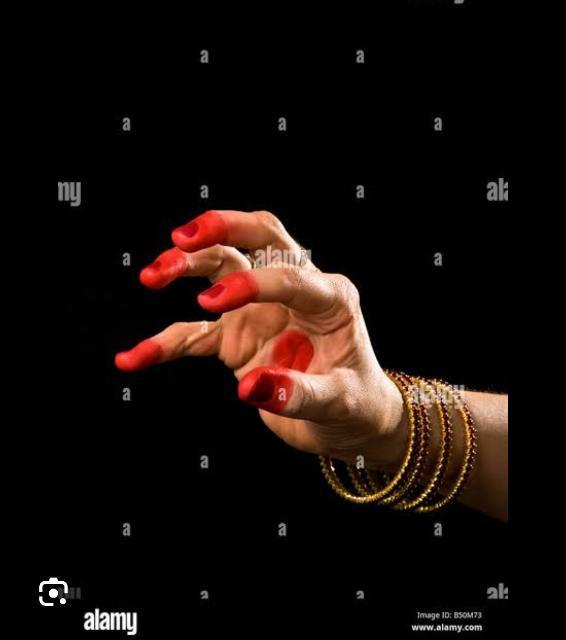padamkosh: (116, 211, 409, 465)
